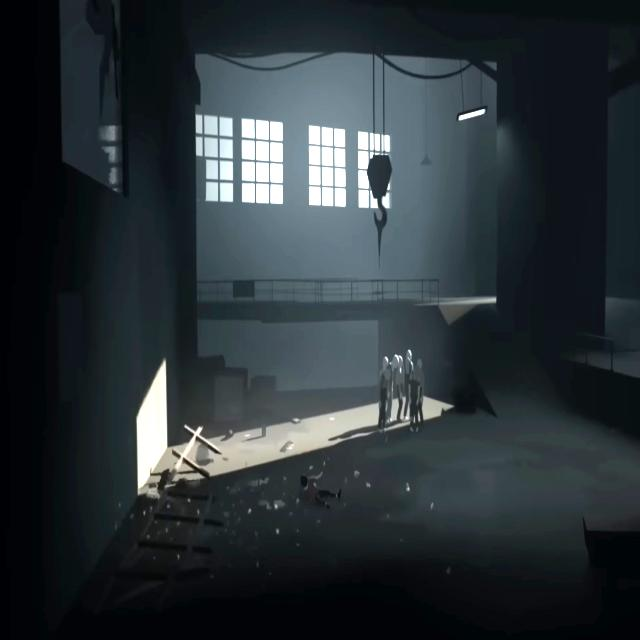boy: (296, 469, 343, 520)
